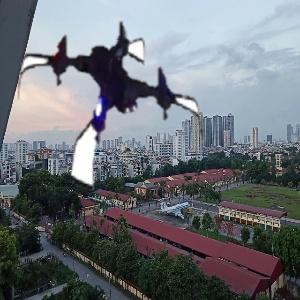drone: (11, 9, 211, 209)
